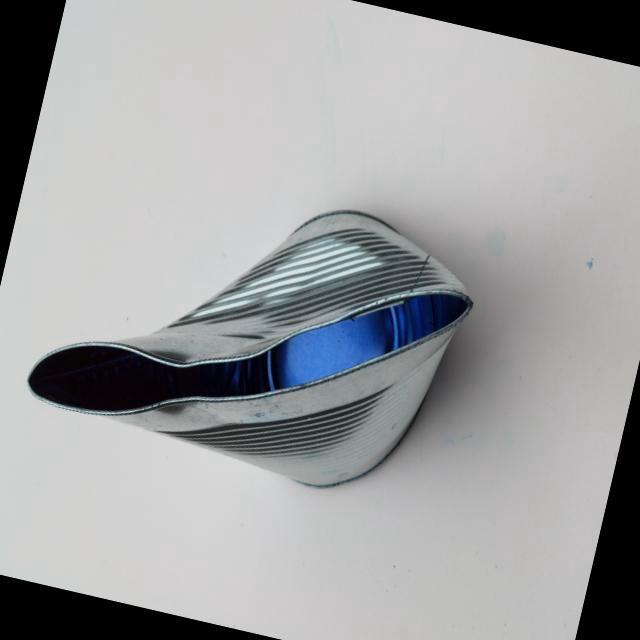metal: (0, 132, 498, 542)
